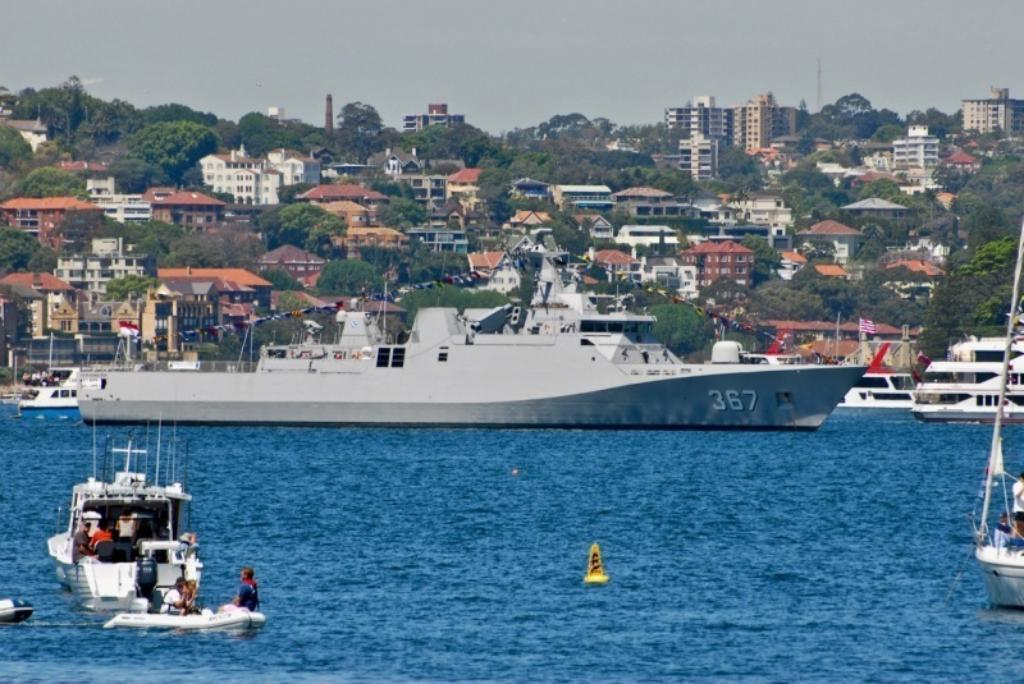PassengerShip: (40, 440, 208, 608), (908, 320, 1024, 425), (14, 358, 86, 414)
